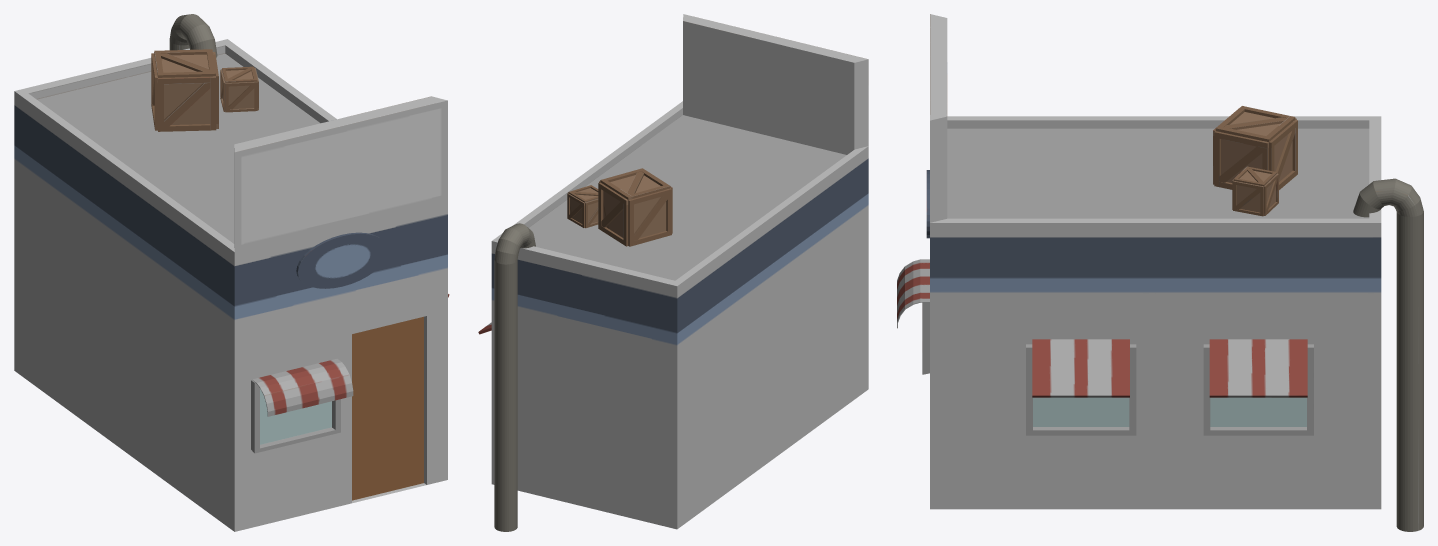
The model's file is HouseWithBoxes.fbx.
3 views of the same model, side by side, from view 1: azimuth 30°, elevation 25°; view 2: azimuth 150°, elevation 25°; view 3: azimuth 270°, elevation 25° (orthographic). The views are drawn at different scales.
Parts seen in each view (by area): view 1: HouseWithBoxes; view 2: HouseWithBoxes; view 3: HouseWithBoxes.
Part boxes in pixels (x1=…): HouseWithBoxes: x1=14, y1=14, x2=449, y2=531; HouseWithBoxes: x1=478, y1=14, x2=868, y2=531; HouseWithBoxes: x1=897, y1=14, x2=1423, y2=531.
Bounding box in the file's own units: 139 × 206 × 234.
